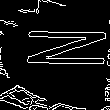N_E: (4, 34, 106, 76)
